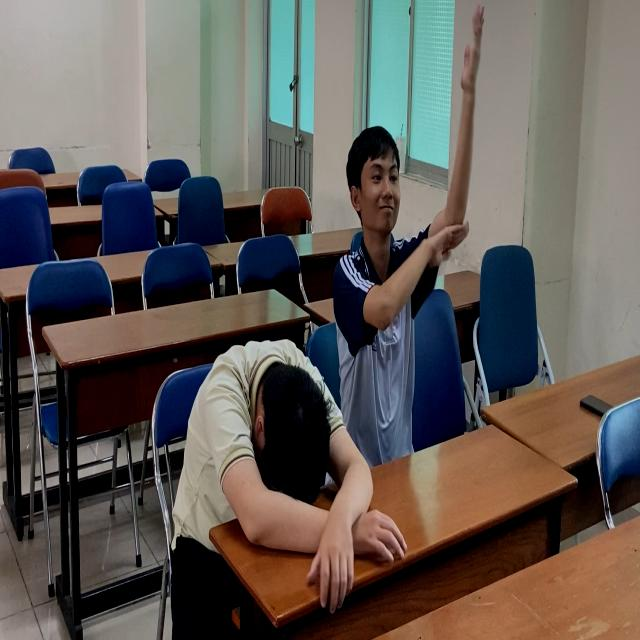raise_hand: (335, 1, 491, 466)
sleep: (168, 335, 357, 554)
